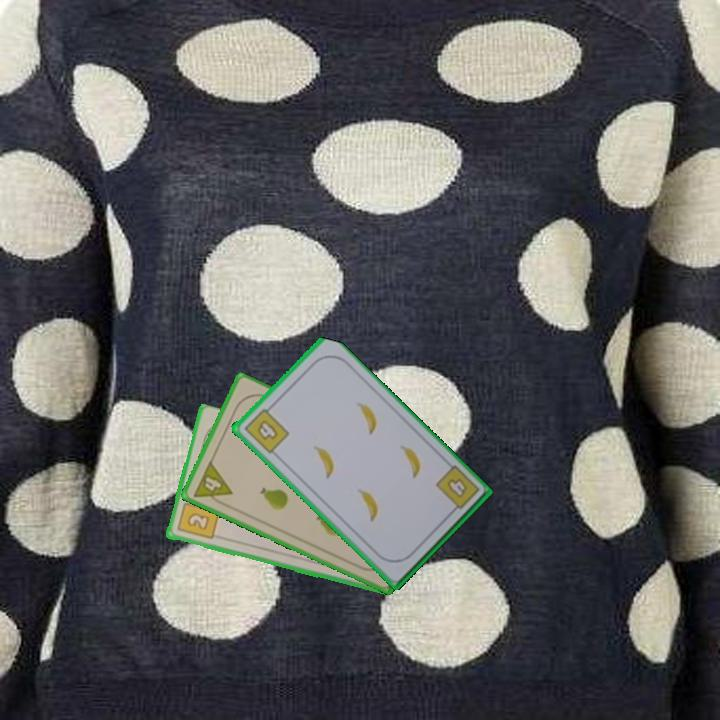2b: (173, 493, 221, 543)
4b: (240, 402, 292, 456), (443, 475, 470, 501)
4p: (190, 458, 235, 510)
